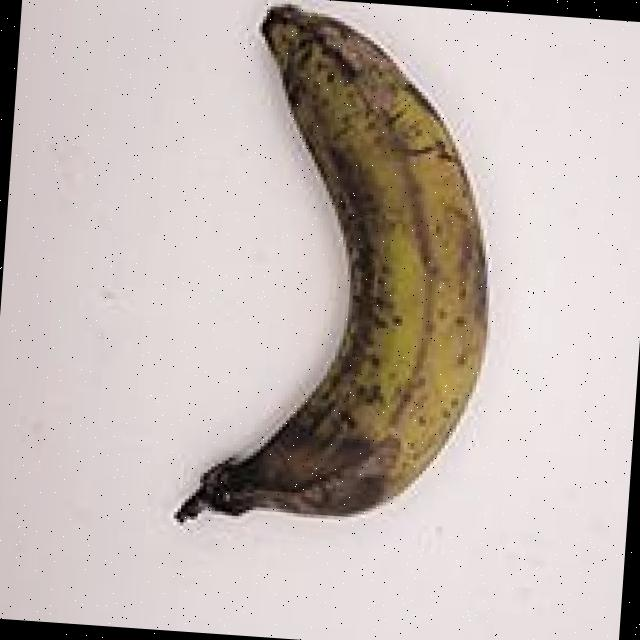Overripe: (112, 0, 525, 577)
